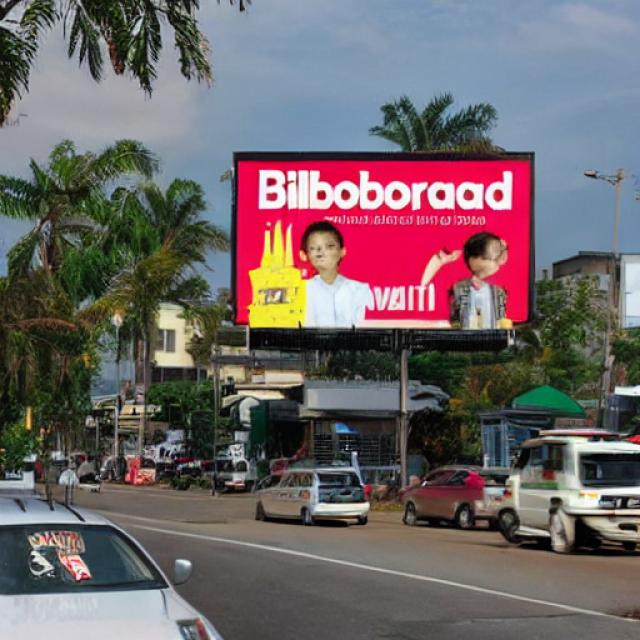Billboard: (229, 148, 537, 328)
